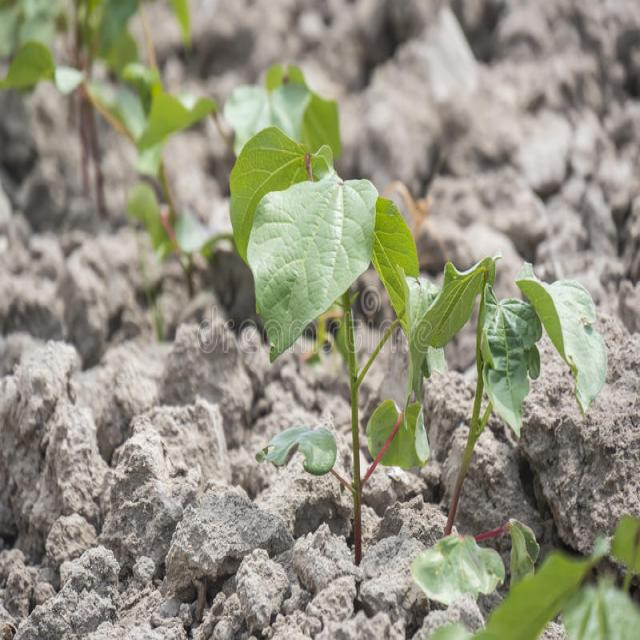Healthy Leaf: (47, 35, 640, 630)
